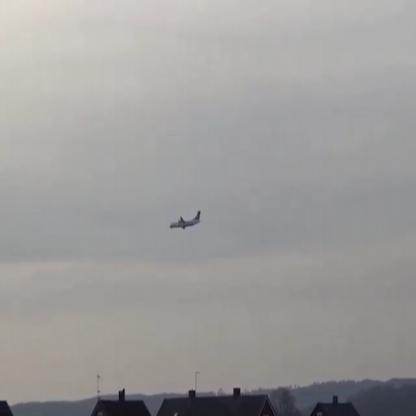CIV_Plane: (168, 210, 201, 232)
